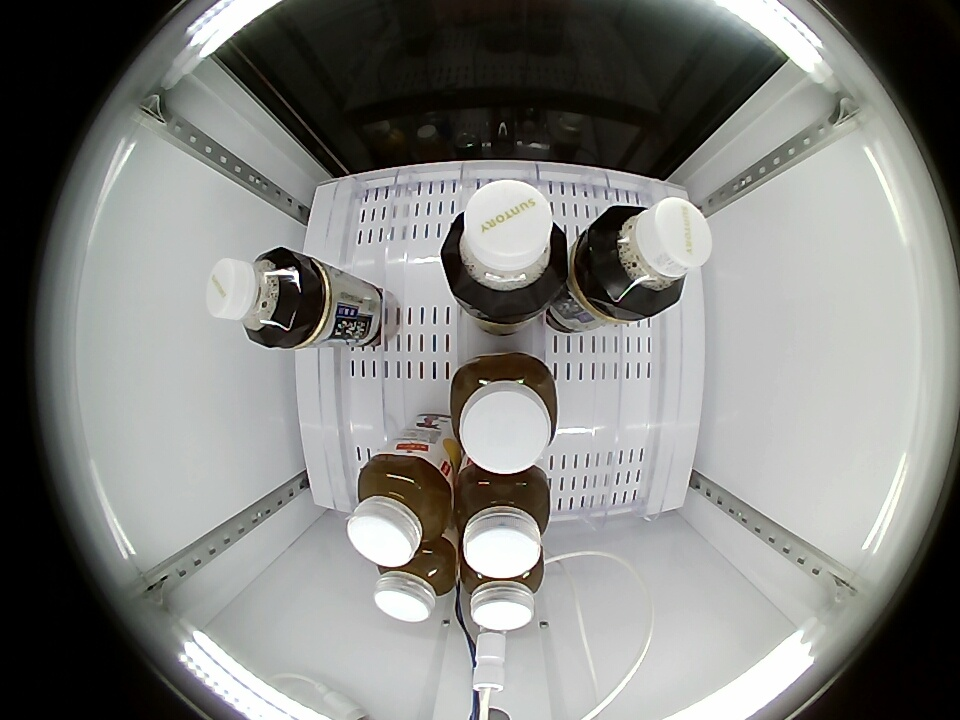chapai: (452, 353, 559, 475), (349, 454, 454, 568), (455, 466, 551, 579), (460, 554, 545, 631), (374, 544, 457, 622)
wulongcha: (440, 180, 569, 312), (586, 197, 713, 315), (207, 247, 308, 347)
